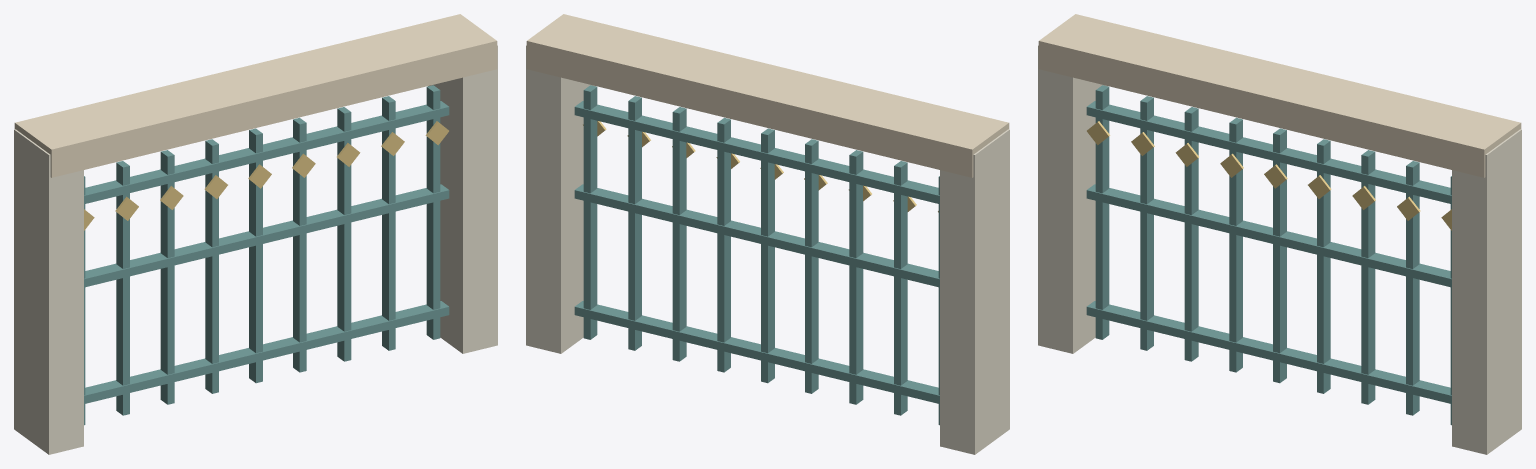
The model's file is ArcadeGate.glb.
The picture shows the model from 3 angles, left to right: view 1: azimuth 30°, elevation 25°; view 2: azimuth 150°, elevation 25°; view 3: azimuth 330°, elevation 25°; orthographic projection.
Parts seen in each view (by area): view 1: ArcadeGate; view 2: ArcadeGate; view 3: ArcadeGate.
Part boxes in pixels (x1,y1,x2,y2): ArcadeGate: [14, 14, 497, 454]; ArcadeGate: [526, 14, 1009, 454]; ArcadeGate: [1038, 14, 1521, 454].
Bounding box in the file's own units: 5.64 × 3.67 × 0.8.
